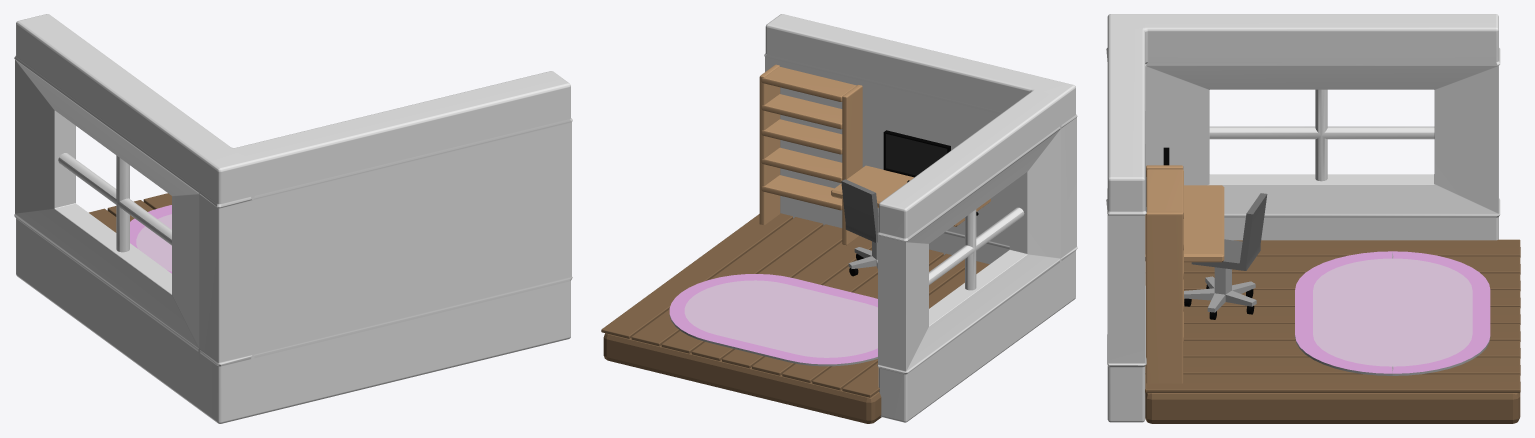
File: room_detailed.fbx
3 renders of one model, left to right at view 1: azimuth 30°, elevation 25°; view 2: azimuth 150°, elevation 25°; view 3: azimuth 270°, elevation 25°, orthographic. The views are drawn at different scales.
Parts seen in each view (by area): view 1: parede, Grade, Tapete; view 2: parede, Tapete, Chão, tabua2, tabua3, tabua4, pasted__pCube2, pCube6, pCube2, Grade, tabua5, Assento (+12 smaller); view 3: parede, Tapete, Chão, tabua2, pasted__pCube2, Grade, tabua10, tabua3, pCube4, tabua4, tabua9, tabua5 (+6 smaller).
Boxes of the visible parts, box(x1,y1,x2,y2) form: parede: box(14, 14, 572, 423); Grade: box(58, 153, 171, 252); Tapete: box(130, 205, 171, 273); parede: box(764, 14, 1077, 422); Tapete: box(669, 274, 877, 366); Chão: box(603, 333, 881, 423); tabua2: box(601, 213, 792, 338); tabua3: box(631, 217, 823, 346); tabua4: box(661, 224, 842, 353); pasted__pCube2: box(759, 64, 780, 224); pCube6: box(883, 130, 950, 177); pCube2: box(842, 85, 862, 245); Grade: box(929, 207, 1024, 290); tabua5: box(691, 236, 871, 360); Assento: box(841, 179, 878, 242); parede: box(1106, 14, 1500, 422); Tapete: box(1295, 251, 1490, 375); Chão: box(1145, 393, 1520, 423); tabua2: box(1145, 374, 1520, 392); pasted__pCube2: box(1146, 211, 1183, 383); Grade: box(1209, 89, 1434, 181); tabua10: box(1234, 239, 1520, 257); tabua3: box(1145, 357, 1520, 375); pCube4: box(1145, 185, 1224, 262); tabua4: box(1183, 340, 1520, 358); tabua9: box(1145, 256, 1520, 274); tabua5: box(1184, 323, 1520, 341).
Bounding box in the file's own units: 10.49 × 7.3 × 11.02.
